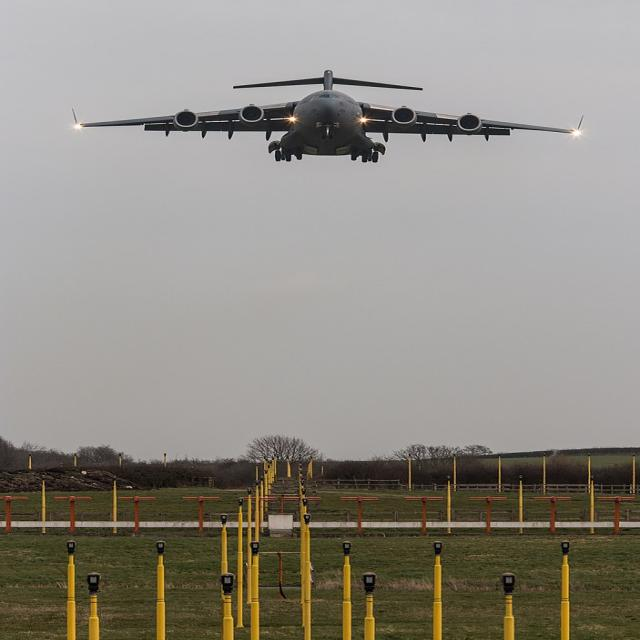MIL_Plane: (71, 70, 583, 162)
